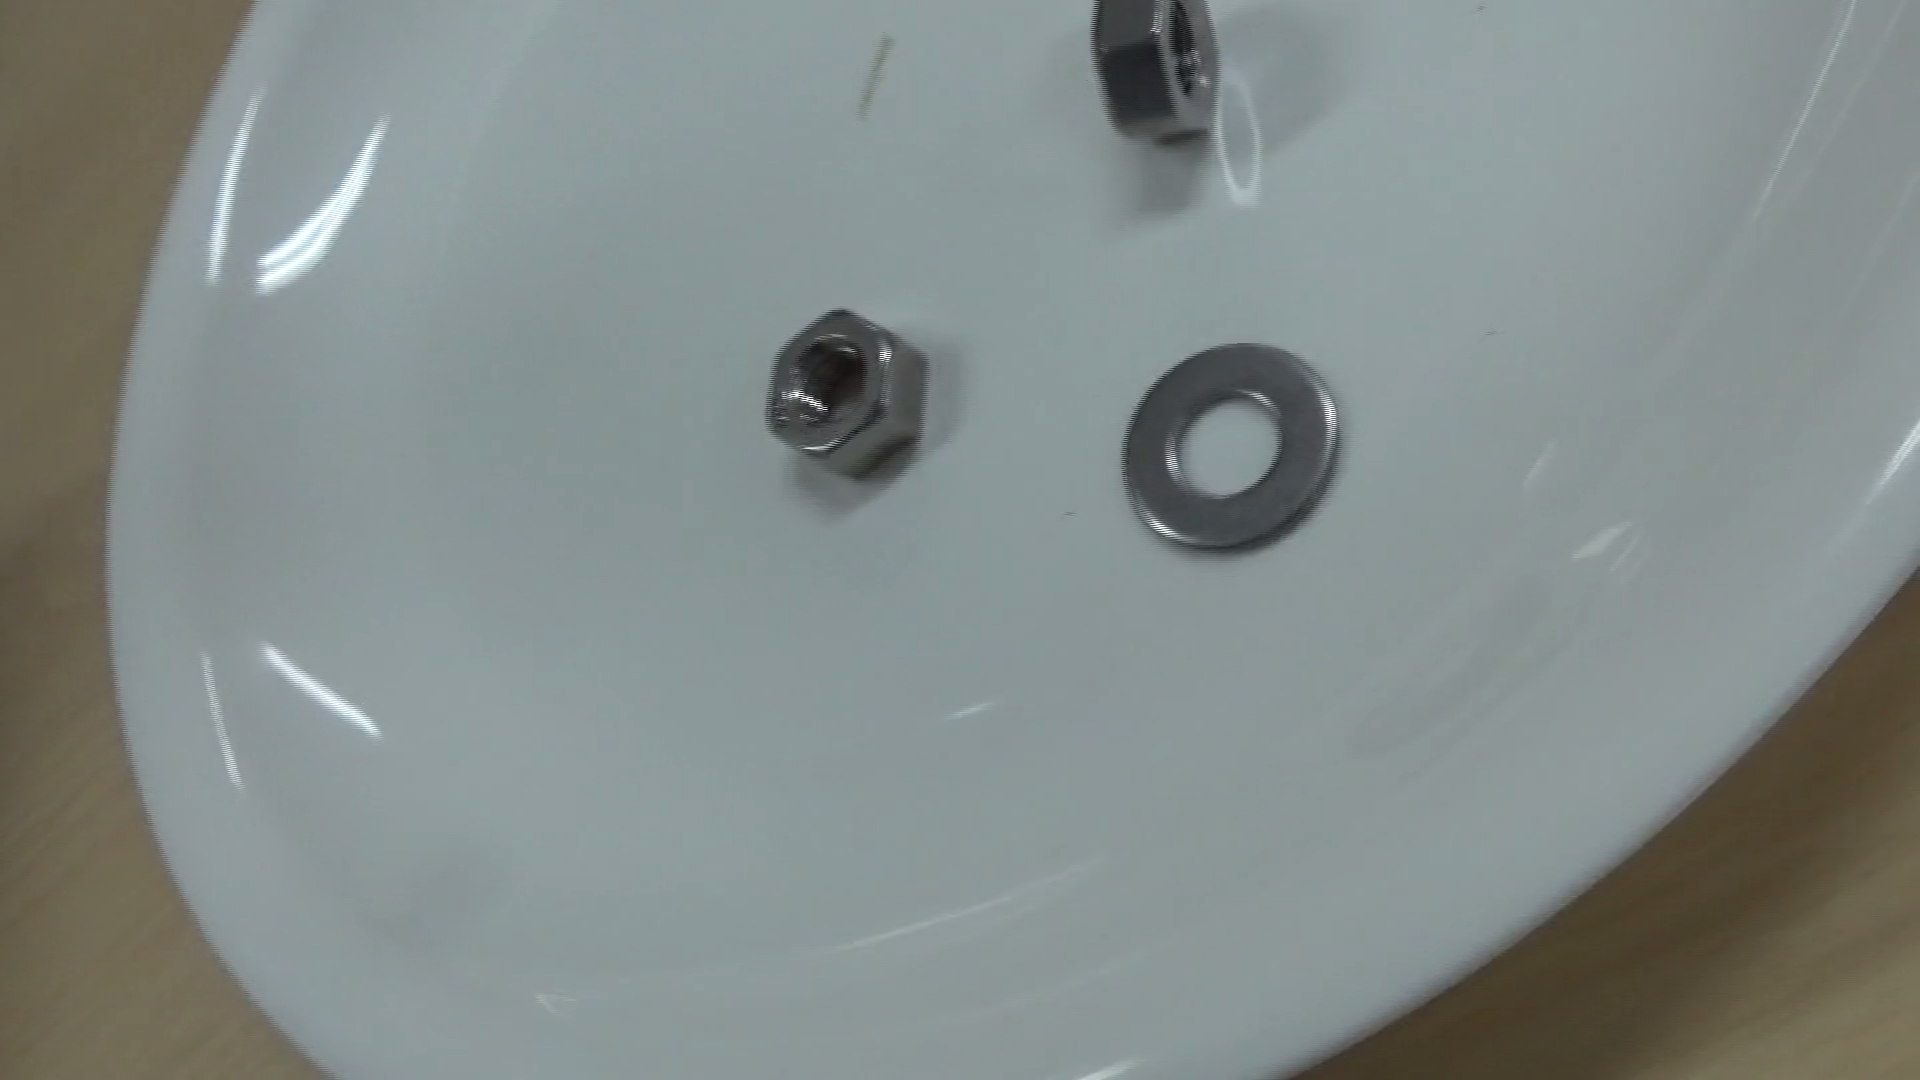nut: (742, 284, 953, 513), (1044, 0, 1254, 158)
washer: (1092, 302, 1362, 585)
